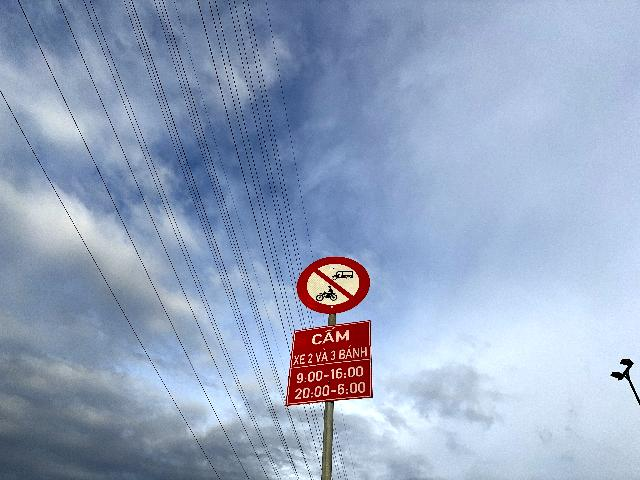cam-xe-2-banh-3-banh: (296, 256, 371, 314)
